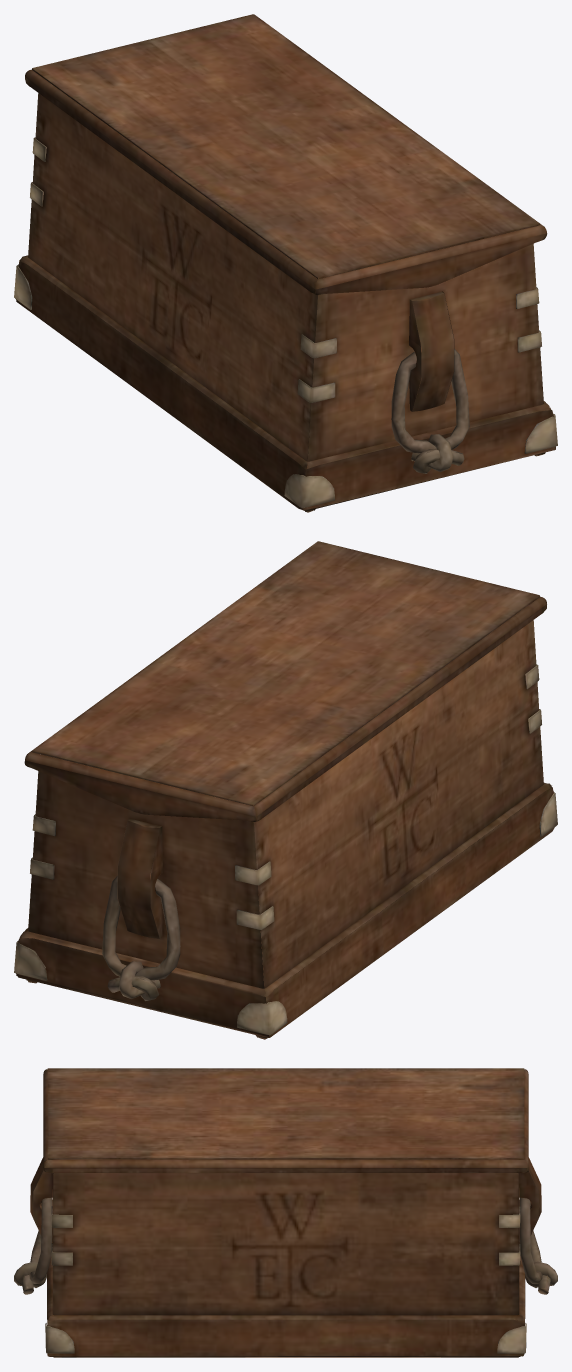
Rendered from wooden_crate_02.glb.
3 views of the same model, one above another, from view 1: azimuth 30°, elevation 25°; view 2: azimuth 150°, elevation 25°; view 3: azimuth 270°, elevation 25° (orthographic). The views are drawn at different scales.
Parts seen in each view (by area): view 1: wooden_crate_02_crate, wooden_crate_02_lid; view 2: wooden_crate_02_crate, wooden_crate_02_lid; view 3: wooden_crate_02_crate, wooden_crate_02_lid.
Part boxes in pixels (x1,y1,x2,y2): wooden_crate_02_crate: (14, 93, 557, 512); wooden_crate_02_lid: (25, 14, 547, 295); wooden_crate_02_crate: (14, 620, 557, 1039); wooden_crate_02_lid: (24, 541, 546, 821); wooden_crate_02_crate: (14, 1157, 557, 1357); wooden_crate_02_lid: (43, 1068, 528, 1173).
Bounding box in the file's own units: 0.5291 × 0.4641 × 1.17.
1 material, 1 textured.
